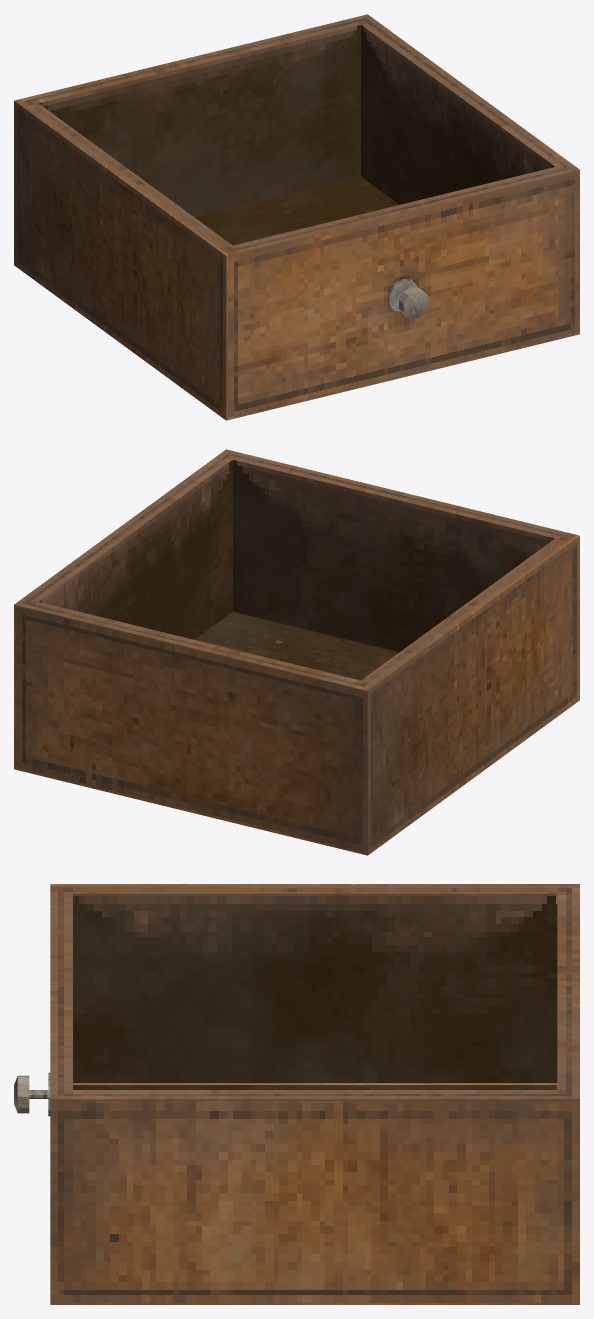
File: DeskDrawer.glb
3 renders of one model, top to bottom at view 1: azimuth 30°, elevation 25°; view 2: azimuth 150°, elevation 25°; view 3: azimuth 270°, elevation 25°, orthographic. The views are drawn at different scales.
Parts seen in each view (by area): view 1: DeskDrawer; view 2: DeskDrawer; view 3: DeskDrawer.
Part boxes in pixels (x1=…): DeskDrawer: x1=14, y1=14, x2=579, y2=420; DeskDrawer: x1=14, y1=449, x2=579, y2=855; DeskDrawer: x1=14, y1=884, x2=579, y2=1304.
Size of the model in its own units: 0.2933 by 0.1305 by 0.3258.
1 material, 1 textured.
